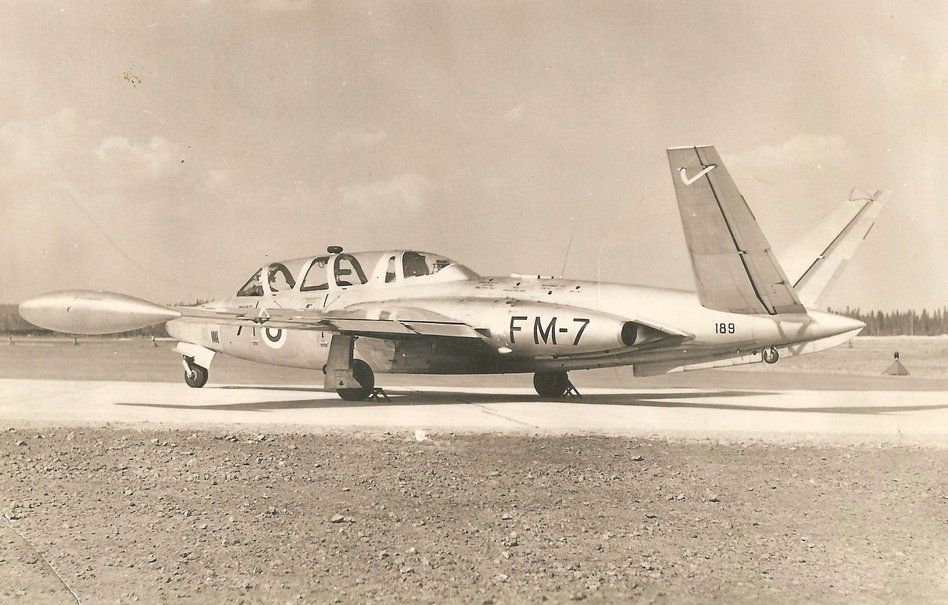Aeronef_militaire: (11, 135, 900, 410)
